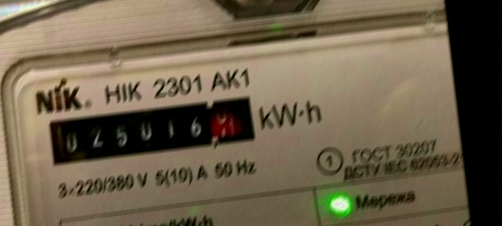0: (139, 116, 155, 140), (64, 129, 79, 152), (214, 102, 228, 123)
1: (163, 112, 177, 138), (218, 125, 227, 137)
2: (89, 123, 105, 147)
5: (114, 123, 128, 145)
6: (188, 112, 203, 139)
screen: (38, 85, 266, 172)
